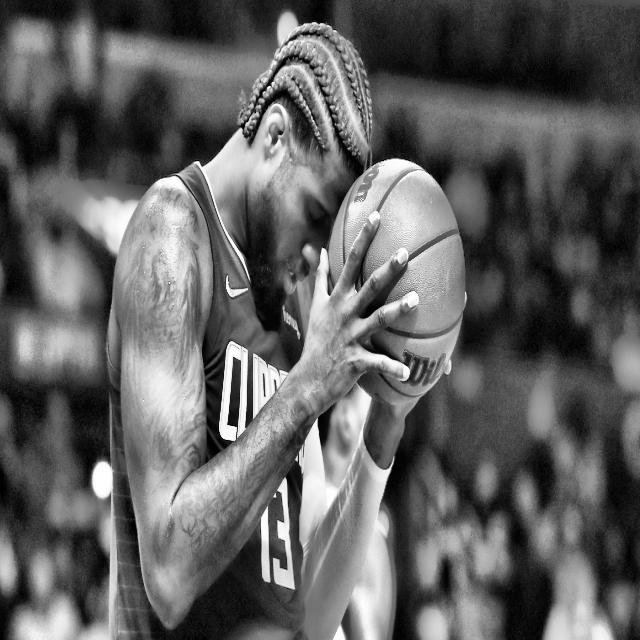Basketball: (329, 159, 466, 403)
